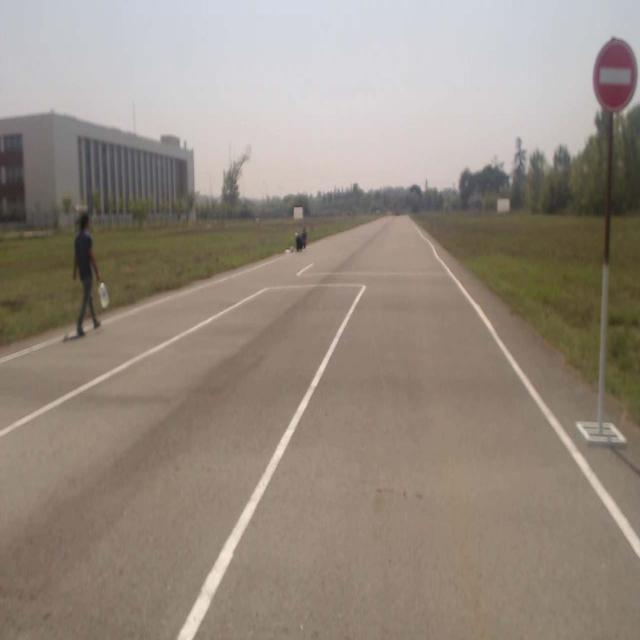girisyok: (595, 40, 637, 109)
